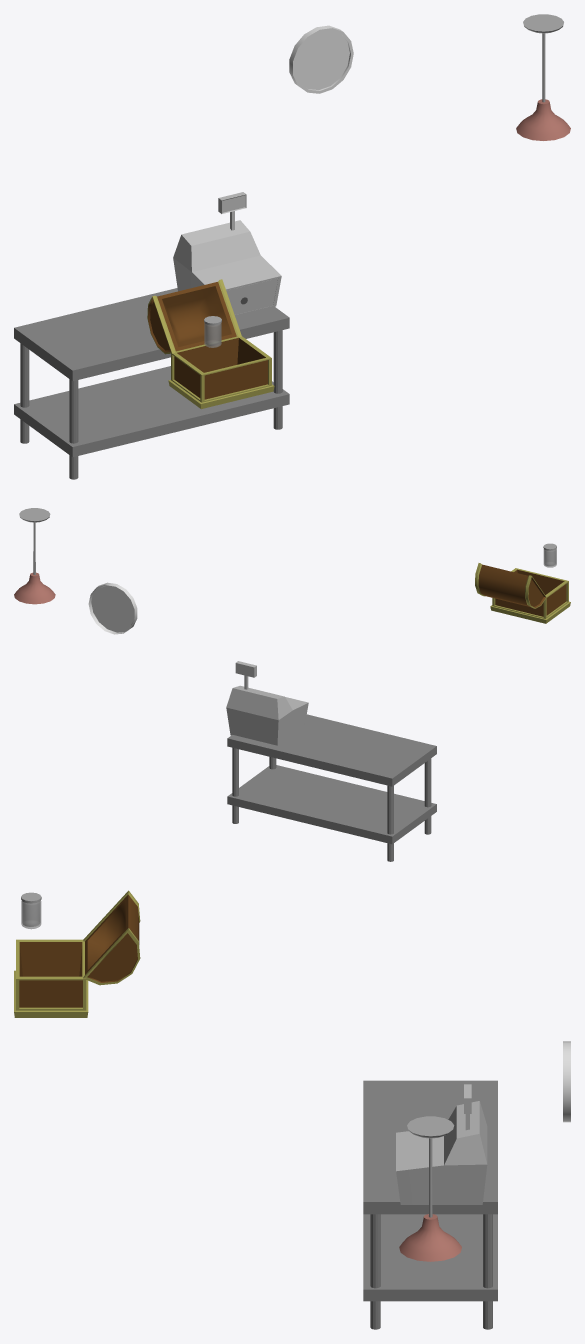
Rendered from Cafe_Assets_02_Uved.fbx.
The picture shows the model from 3 angles, top to bottom: view 1: azimuth 30°, elevation 25°; view 2: azimuth 150°, elevation 25°; view 3: azimuth 270°, elevation 25°; orthographic projection. The views are drawn at different scales.
Visible parts, largest first — view 1: Table, polySurface2, pCube31, Clock, Lamp, pCube32; view 2: Table, polySurface2, pCube31, Clock, Lamp; view 3: Table, polySurface2, pCube31, Lamp, pCylinder5, Clock.
Boxes of the visible parts, x1=… form: Table: x1=14, y1=288, x2=289, y2=479; polySurface2: x1=147, y1=279, x2=274, y2=408; pCube31: x1=173, y1=192, x2=281, y2=315; Clock: x1=289, y1=25, x2=353, y2=93; Lamp: x1=516, y1=14, x2=570, y2=140; pCube32: x1=226, y1=278, x2=277, y2=314; Table: x1=227, y1=714, x2=436, y2=861; polySurface2: x1=475, y1=563, x2=570, y2=623; pCube31: x1=226, y1=661, x2=308, y2=745; Clock: x1=88, y1=582, x2=137, y2=634; Lamp: x1=14, y1=508, x2=55, y2=604; Table: x1=363, y1=1080, x2=497, y2=1329; polySurface2: x1=14, y1=890, x2=140, y2=1017; pCube31: x1=396, y1=1084, x2=487, y2=1204; Lamp: x1=399, y1=1116, x2=461, y2=1261; pCylinder5: x1=21, y1=892, x2=41, y2=929; Clock: x1=563, y1=1041, x2=570, y2=1122.
Size of the model in its own units: 5.4 by 2.98 by 4.14.
